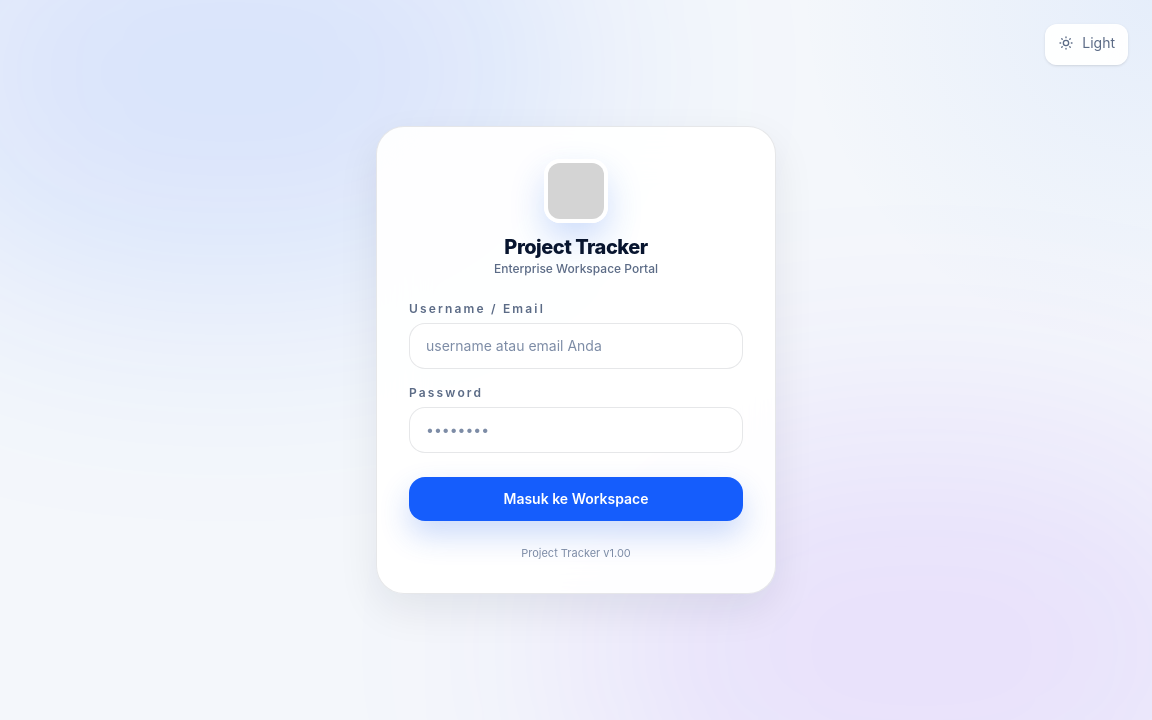
it: LoginPage › shows validation feedback for empty credentials
Click the button "Masuk ke Workspace" at (576, 499), box [409,477,743,521]
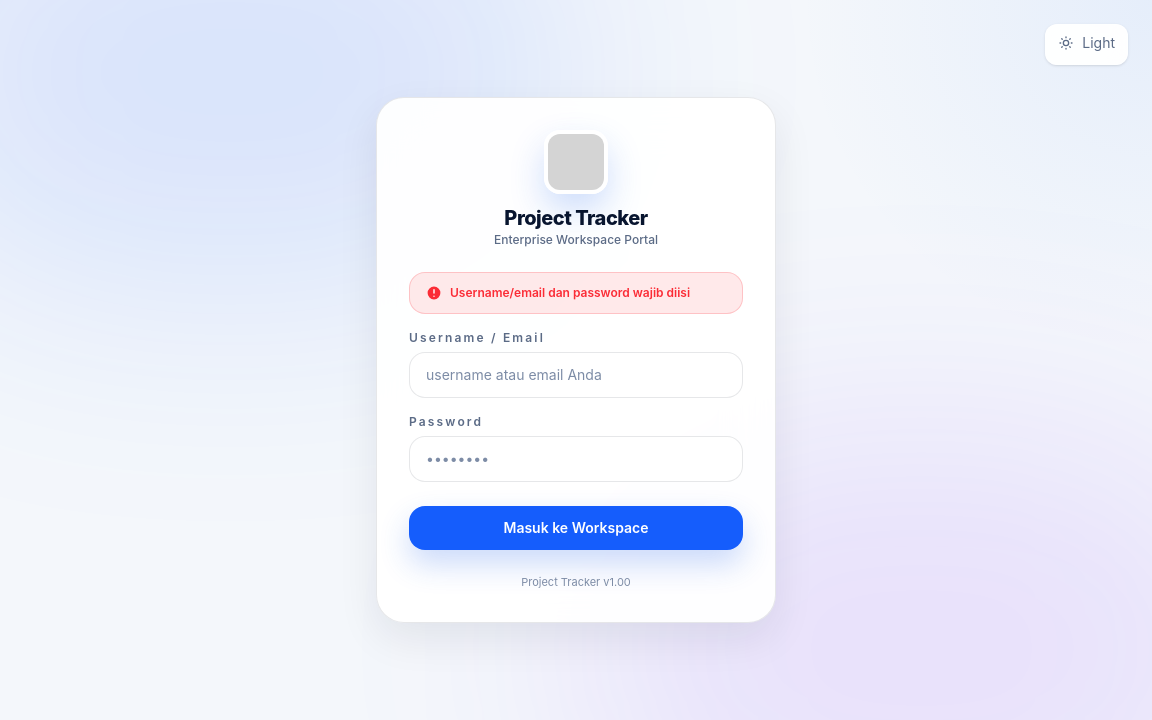
Result: the text "Username/email dan password wajib diisi" is shown at [450,285,690,301]
